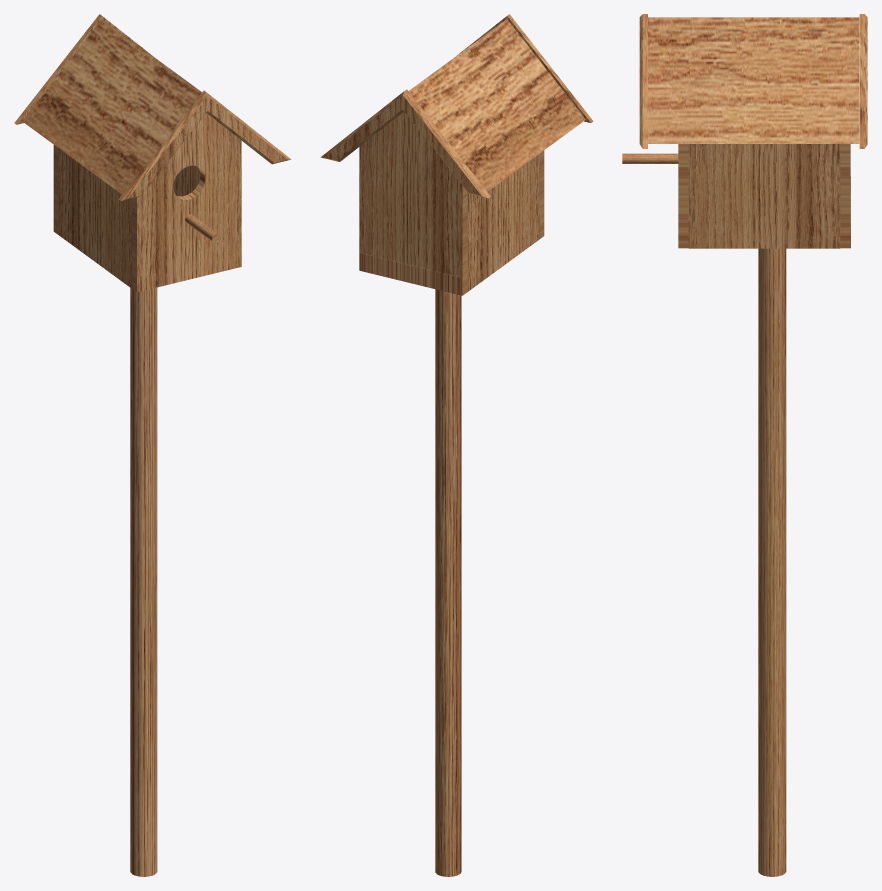
Rendered from bird_house.FBX.
The picture shows the model from 3 angles, left to right: view 1: azimuth 30°, elevation 25°; view 2: azimuth 150°, elevation 25°; view 3: azimuth 270°, elevation 25°; orthographic projection. The views are drawn at different scales.
Visible parts, largest first — view 1: Pole, Roof, Front, Side Wall 1, Trim Front, Trim Back, Side Wall 2; view 2: Roof, Pole, Back, Side Wall 1, Trim Back, Floor, Trim Front; view 3: Roof, Pole, Side Wall 2, Trim Back, Trim Front, Front, Back, Perch.
Boxes of the visible parts, x1=… form: Pole: x1=130, y1=287, x2=157, y2=876; Roof: x1=22, y1=19, x2=201, y2=194; Front: x1=132, y1=113, x2=241, y2=292; Side Wall 1: x1=58, y1=148, x2=131, y2=288; Trim Front: x1=118, y1=90, x2=291, y2=200; Trim Back: x1=14, y1=14, x2=153, y2=124; Side Wall 2: x1=173, y1=165, x2=200, y2=196; Roof: x1=408, y1=19, x2=585, y2=191; Pole: x1=435, y1=289, x2=461, y2=876; Back: x1=359, y1=111, x2=467, y2=295; Side Wall 1: x1=467, y1=154, x2=539, y2=291; Trim Back: x1=320, y1=89, x2=490, y2=198; Floor: x1=359, y1=253, x2=462, y2=295; Trim Front: x1=457, y1=14, x2=593, y2=122; Roof: x1=648, y1=17, x2=859, y2=143; Pole: x1=758, y1=248, x2=786, y2=876; Side Wall 2: x1=688, y1=144, x2=840, y2=248; Trim Back: x1=859, y1=14, x2=867, y2=148; Trim Front: x1=639, y1=14, x2=647, y2=148; Front: x1=678, y1=144, x2=688, y2=248; Back: x1=840, y1=144, x2=850, y2=248; Perch: x1=622, y1=153, x2=678, y2=163.
Size of the model in its own units: 9.87 by 45.58 by 11.84.
2 materials, 2 textured.
